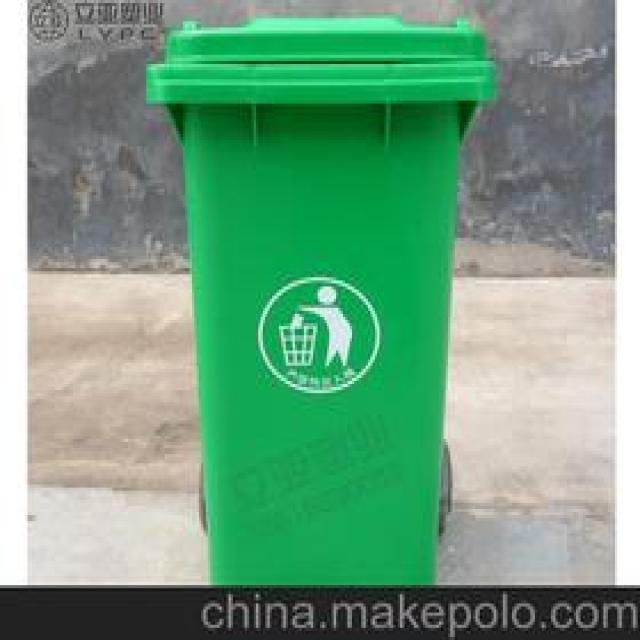garbage_bin: (144, 15, 496, 579)
